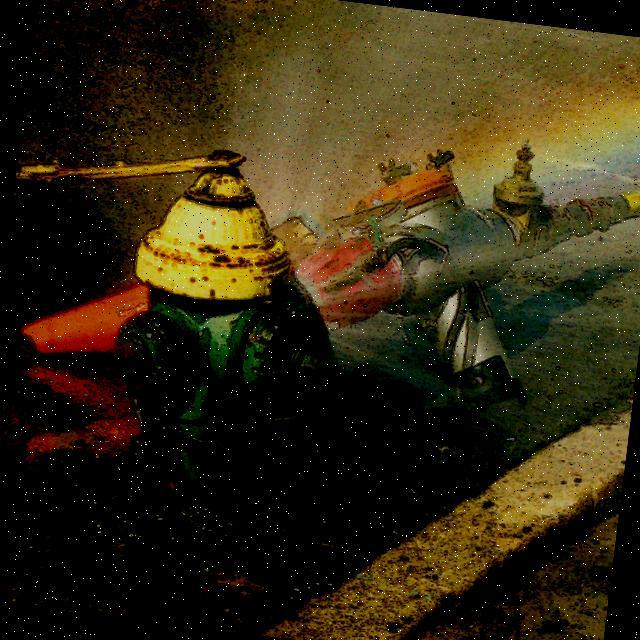fire_hydrant: (0, 116, 358, 511)
